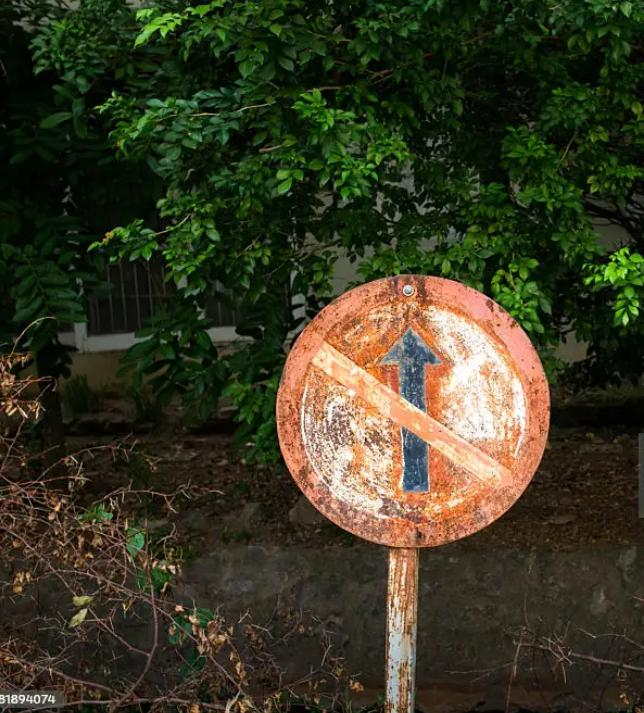obstructed_road_sign: (276, 275, 549, 547)
